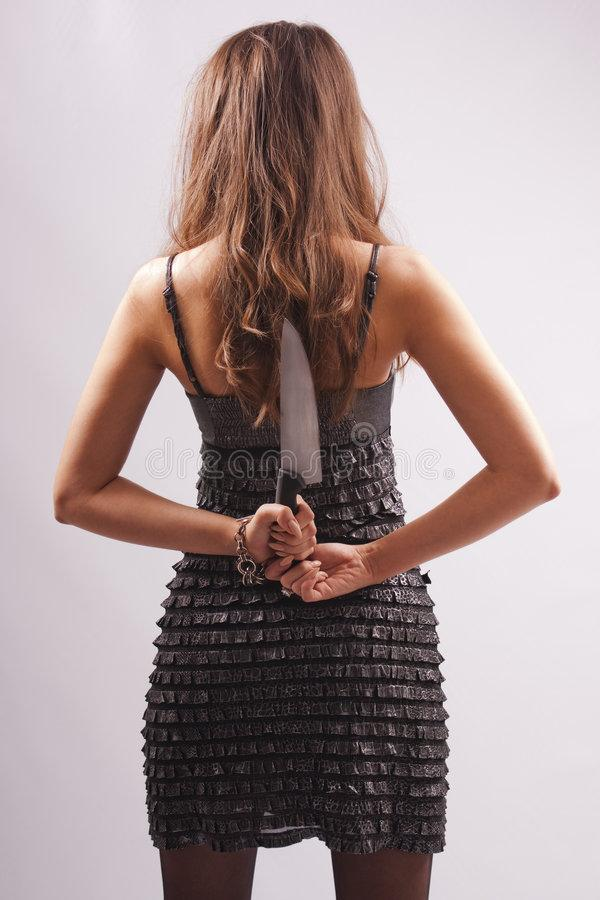weapon: (266, 312, 330, 597)
